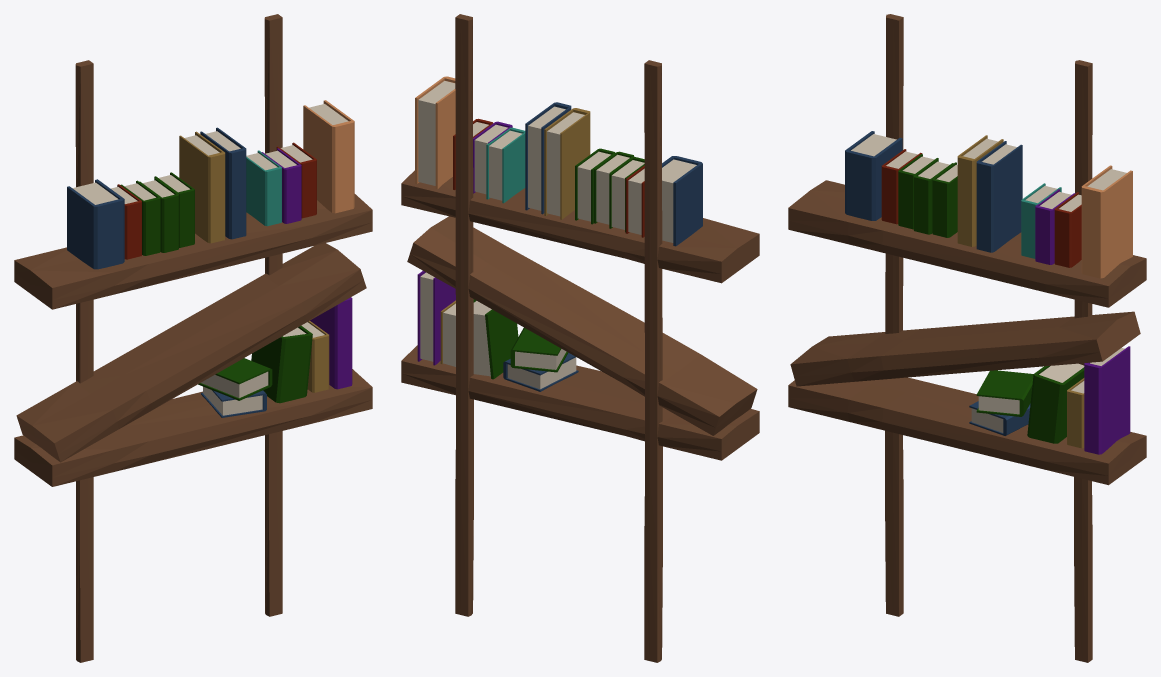
Rendered from Regal simple.fbx.
The picture shows the model from 3 angles, left to right: view 1: azimuth 30°, elevation 25°; view 2: azimuth 150°, elevation 25°; view 3: azimuth 330°, elevation 25°; orthographic projection.
Parts seen in each view (by area): view 1: Holzi, Holzi_1, Holzi_2, Holzi_3, Holzi_4, Buch_7, Buch, Buch_5, Buch_11, Buch_6, Buch_8, Buch_12 (+9 smaller); view 2: Holzi, Holzi_1, Holzi_2, Holzi_4, Holzi_3, Buch_7, Buch_5, Buch, Buch_11, Buch_8, Buch_12, Buch_6 (+8 smaller); view 3: Holzi, Holzi_1, Holzi_2, Holzi_3, Holzi_4, Buch_7, Buch_6, Buch_12, Buch, Buch_11, Buch_5, Buch_9 (+9 smaller).
Boxes of the visible parts, left/top/right/bottom form: Holzi: left=16, top=243, right=366, bottom=462; Holzi_1: left=14, top=369, right=372, bottom=486; Holzi_2: left=14, top=194, right=372, bottom=309; Holzi_3: left=75, top=60, right=93, bottom=662; Holzi_4: left=264, top=14, right=282, bottom=616; Buch_7: left=303, top=100, right=354, bottom=213; Buch: left=67, top=179, right=124, bottom=269; Buch_5: left=179, top=131, right=225, bottom=243; Buch_11: left=251, top=325, right=312, bottom=403; Buch_6: left=200, top=127, right=246, bottom=239; Buch_8: left=246, top=150, right=281, bottom=226; Buch_12: left=310, top=297, right=352, bottom=389; Holzi: left=407, top=216, right=757, bottom=435; Holzi_1: left=401, top=345, right=759, bottom=460; Holzi_2: left=401, top=170, right=759, bottom=283; Holzi_4: left=455, top=14, right=473, bottom=616; Holzi_3: left=644, top=60, right=662, bottom=662; Buch_7: left=415, top=76, right=455, bottom=189; Buch_5: left=544, top=108, right=590, bottom=219; Buch: left=662, top=156, right=702, bottom=246; Buch_11: left=473, top=299, right=518, bottom=379; Buch_8: left=486, top=127, right=525, bottom=203; Buch_12: left=417, top=271, right=455, bottom=365; Buch_6: left=525, top=102, right=571, bottom=214; Holzi: left=790, top=311, right=1140, bottom=386; Holzi_1: left=788, top=377, right=1146, bottom=485; Holzi_2: left=788, top=180, right=1146, bottom=307; Holzi_3: left=885, top=14, right=903, bottom=616; Holzi_4: left=1074, top=60, right=1092, bottom=662; Buch_7: left=1081, top=165, right=1132, bottom=278; Buch_6: left=976, top=141, right=1022, bottom=252; Buch_12: left=1084, top=346, right=1130, bottom=454; Buch: left=845, top=131, right=902, bottom=220; Buch_11: left=1027, top=363, right=1084, bottom=443; Buch_5: left=957, top=135, right=1003, bottom=246; Buch_9: left=976, top=370, right=1033, bottom=416.
Bounding box in the file's own units: 360 × 640 × 81.06.
